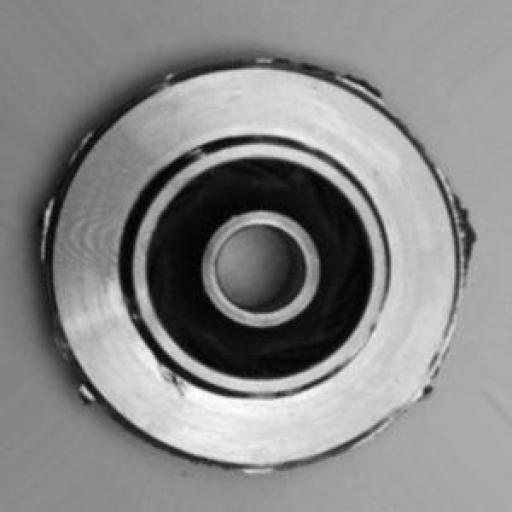defect: (25, 21, 491, 484)
